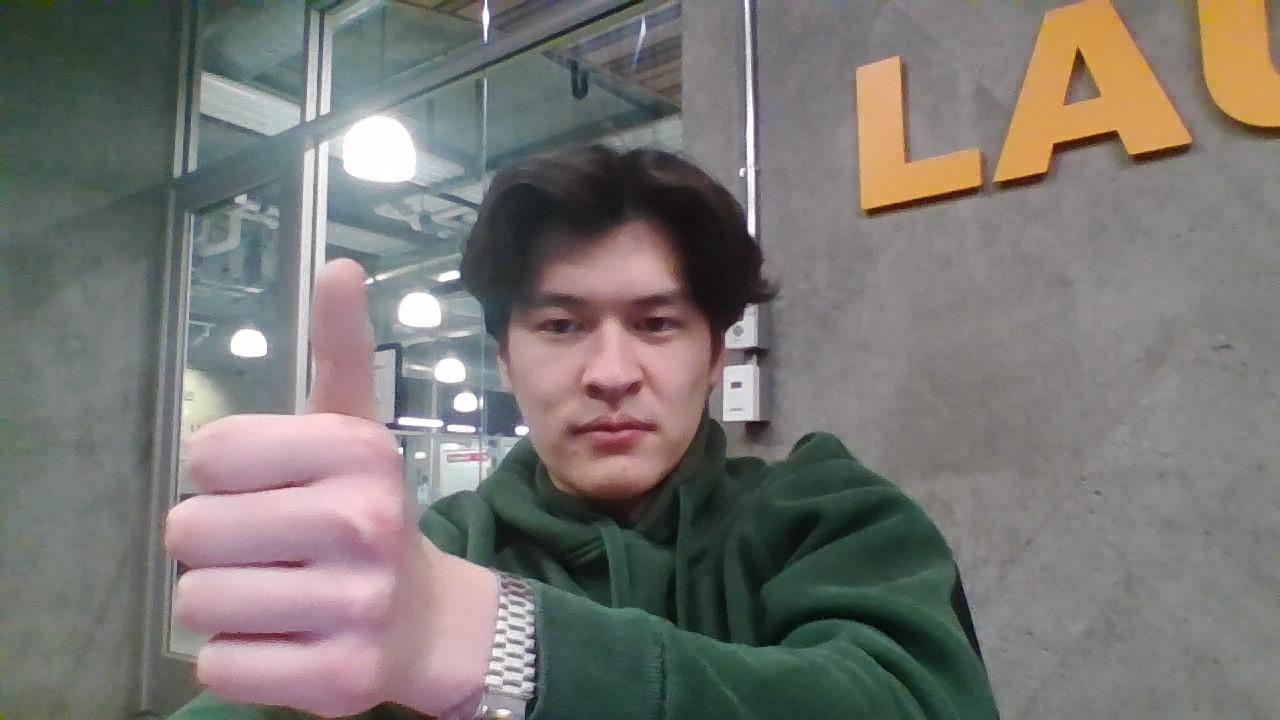thumbsUp: (166, 256, 414, 719)
